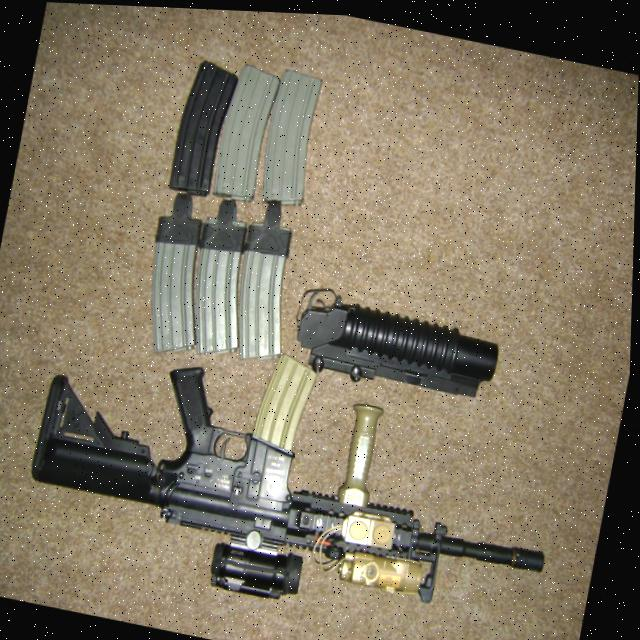firearm: (15, 301, 580, 640)
rocket: (286, 276, 509, 406)
